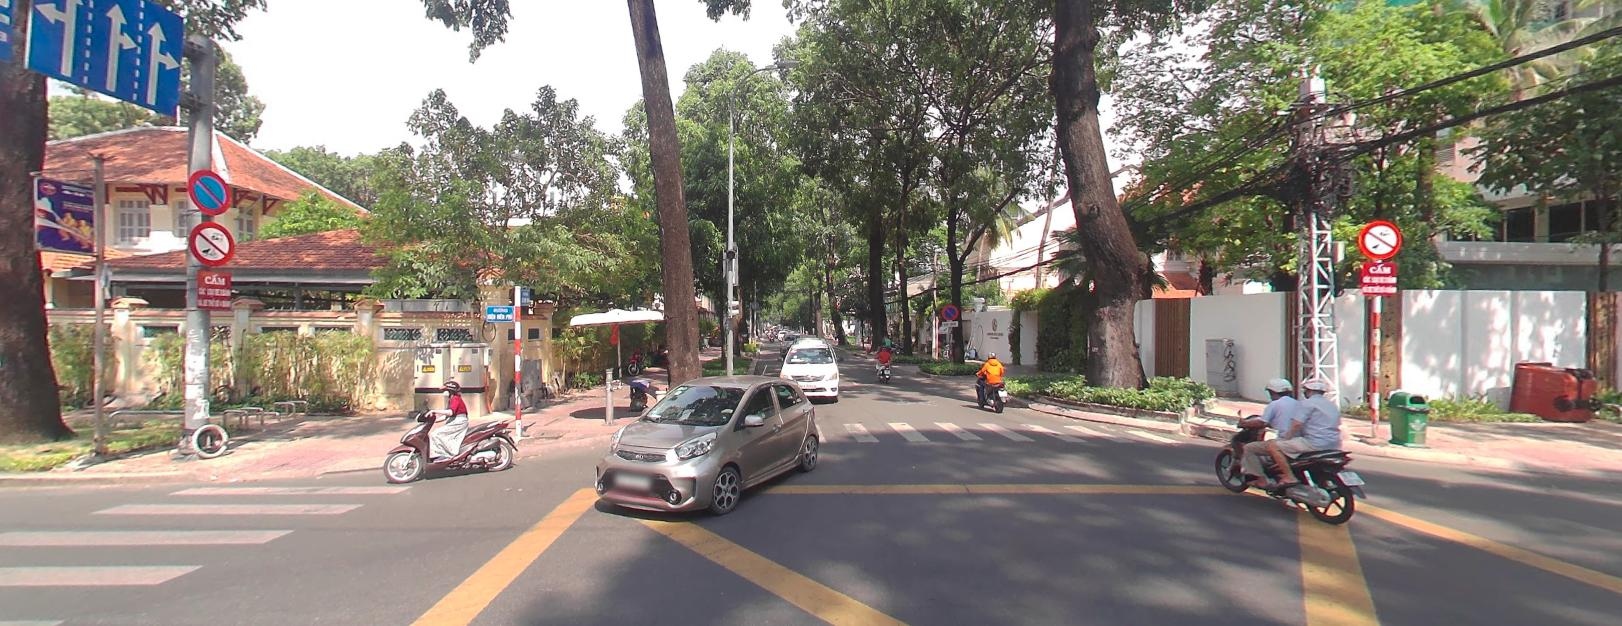Cam con lai: (189, 220, 234, 263), (1357, 219, 1400, 255)
Cam dung va do: (187, 168, 230, 213), (941, 303, 957, 318)
